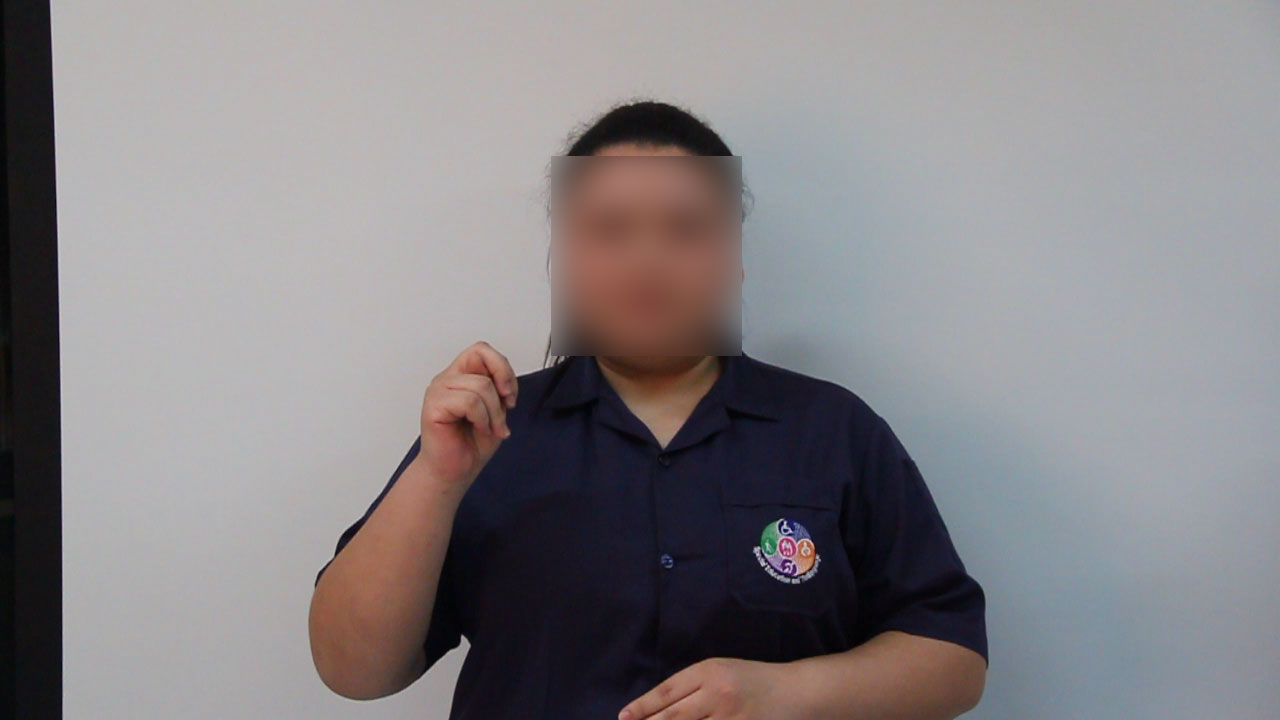nor: (403, 325, 540, 461)
